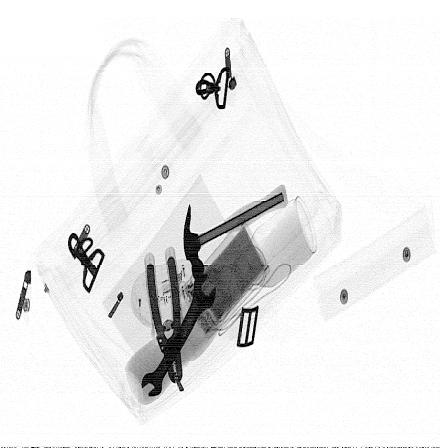Hammer: (183, 185, 289, 279)
Pliers: (145, 245, 183, 383)
Powerbank: (179, 218, 268, 340)
Wrench: (140, 273, 216, 397)
